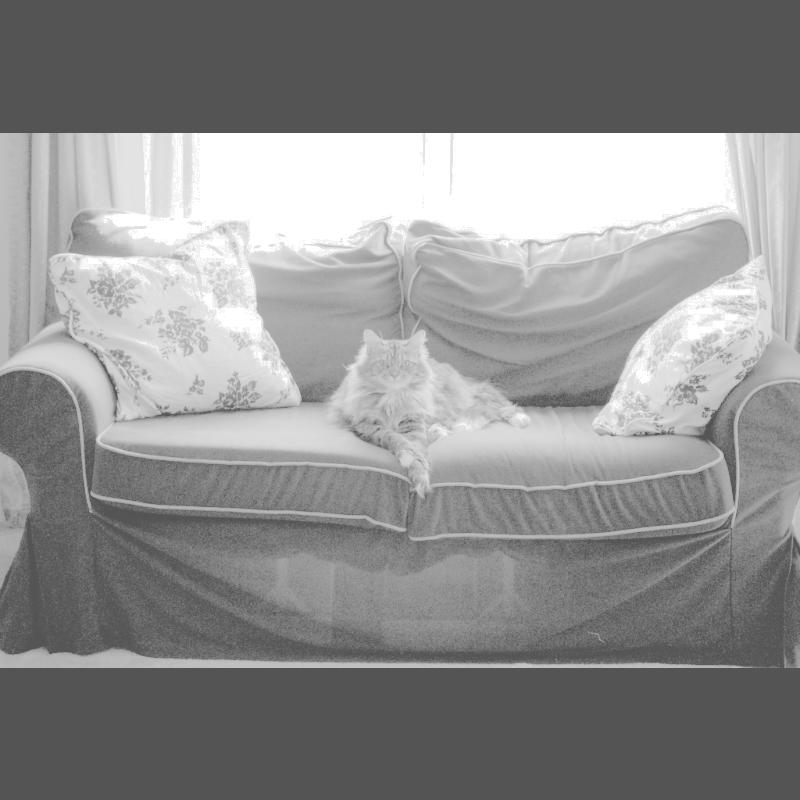pillow: (55, 218, 300, 430), (584, 255, 772, 440)
